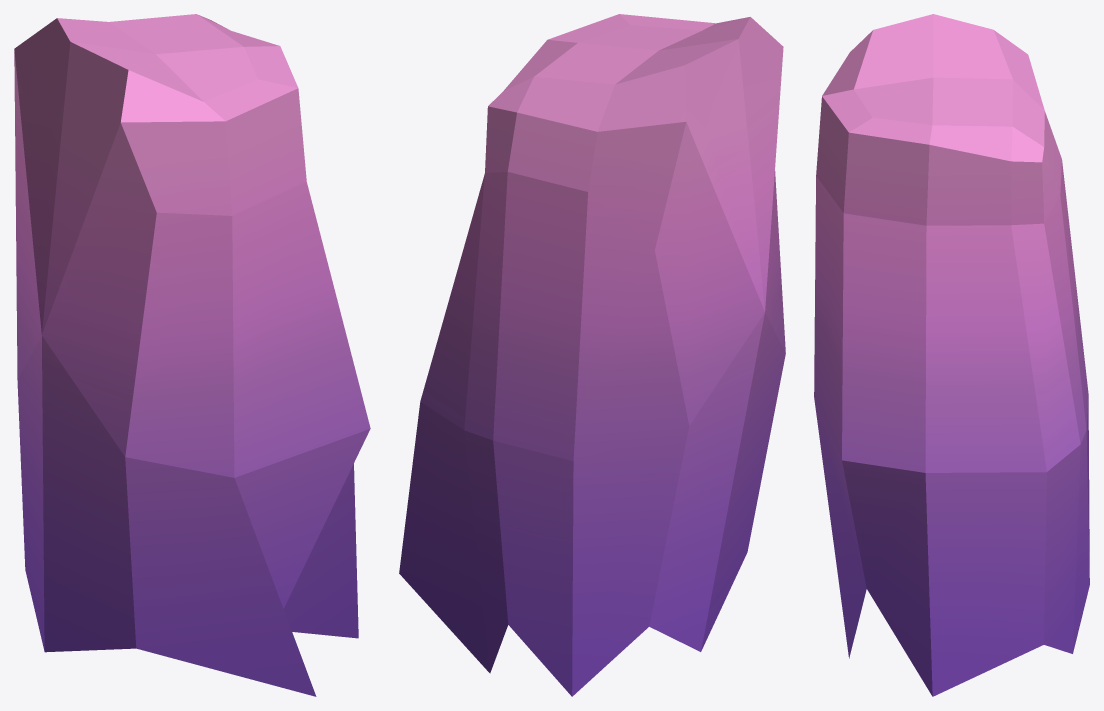
The model's file is Terrain_5.FBX.
The picture shows the model from 3 angles, left to right: view 1: azimuth 30°, elevation 25°; view 2: azimuth 150°, elevation 25°; view 3: azimuth 270°, elevation 25°; orthographic projection. The views are drawn at different scales.
Parts seen in each view (by area): view 1: Object004; view 2: Object004; view 3: Object004.
Part boxes in pixels (box(x1,y1,x2,y2)): Object004: box(14, 14, 370, 696); Object004: box(399, 14, 785, 696); Object004: box(814, 14, 1089, 696).
Bounding box in the file's own units: 2433 × 4729 × 2095.
1 material, 1 textured.
